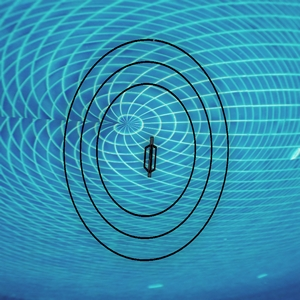circle: (53, 30, 234, 266)
submarine: (143, 139, 158, 176)
